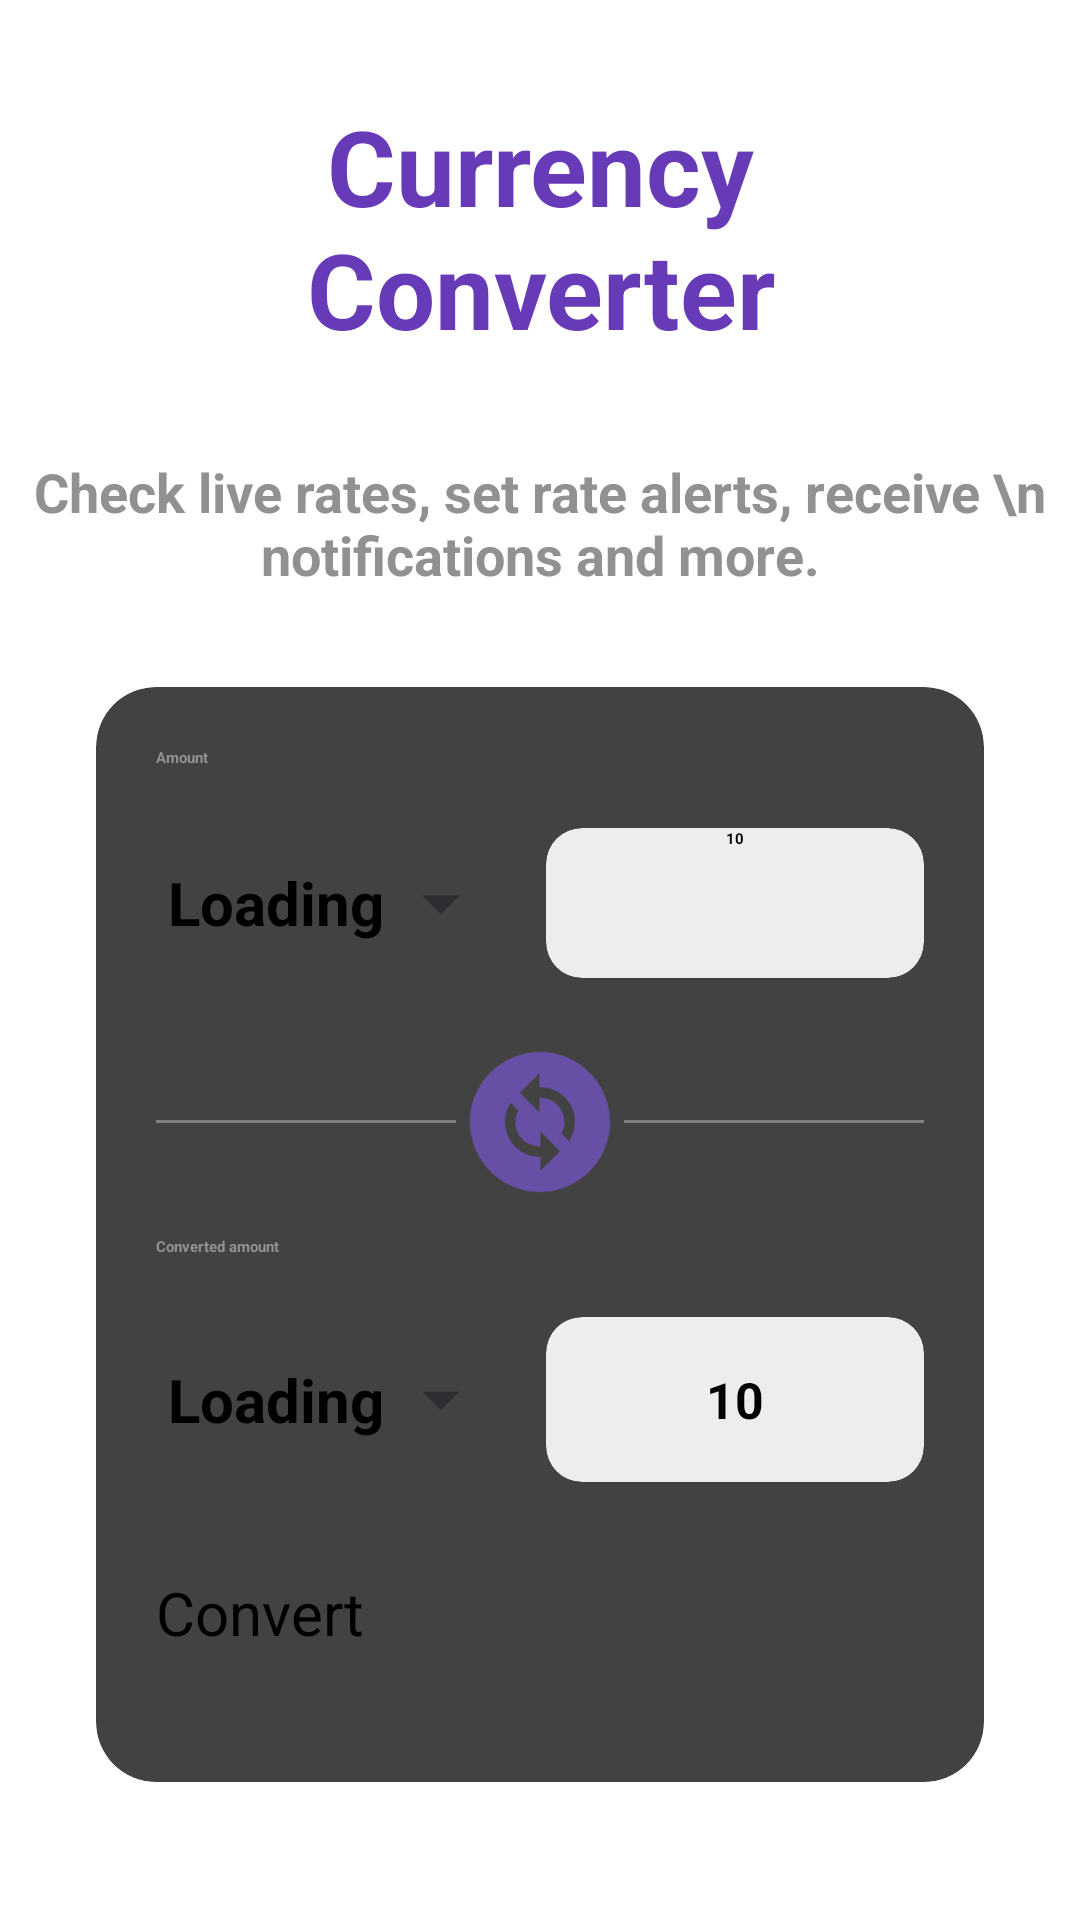

Where to tap for icons on this 1080×1920 app screen, as (x,y):
change circle: (539,1122)
